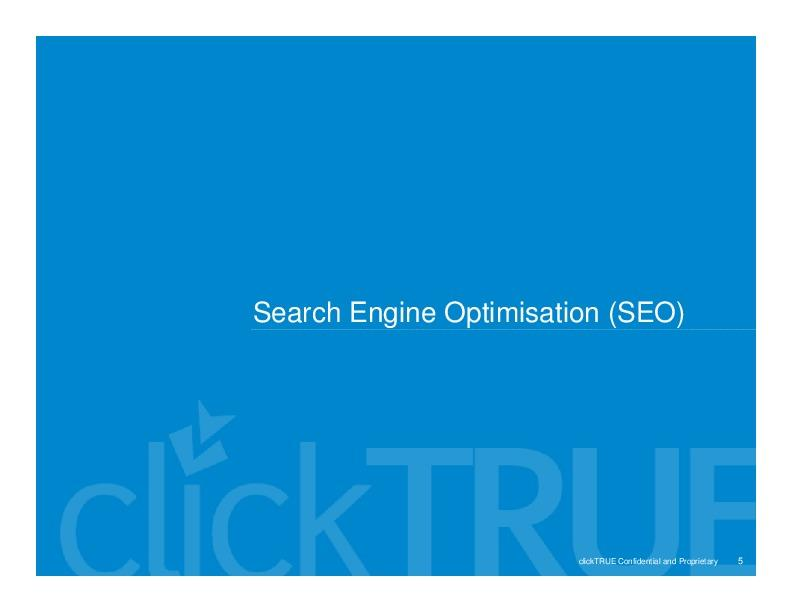title: (241, 281, 699, 357)
